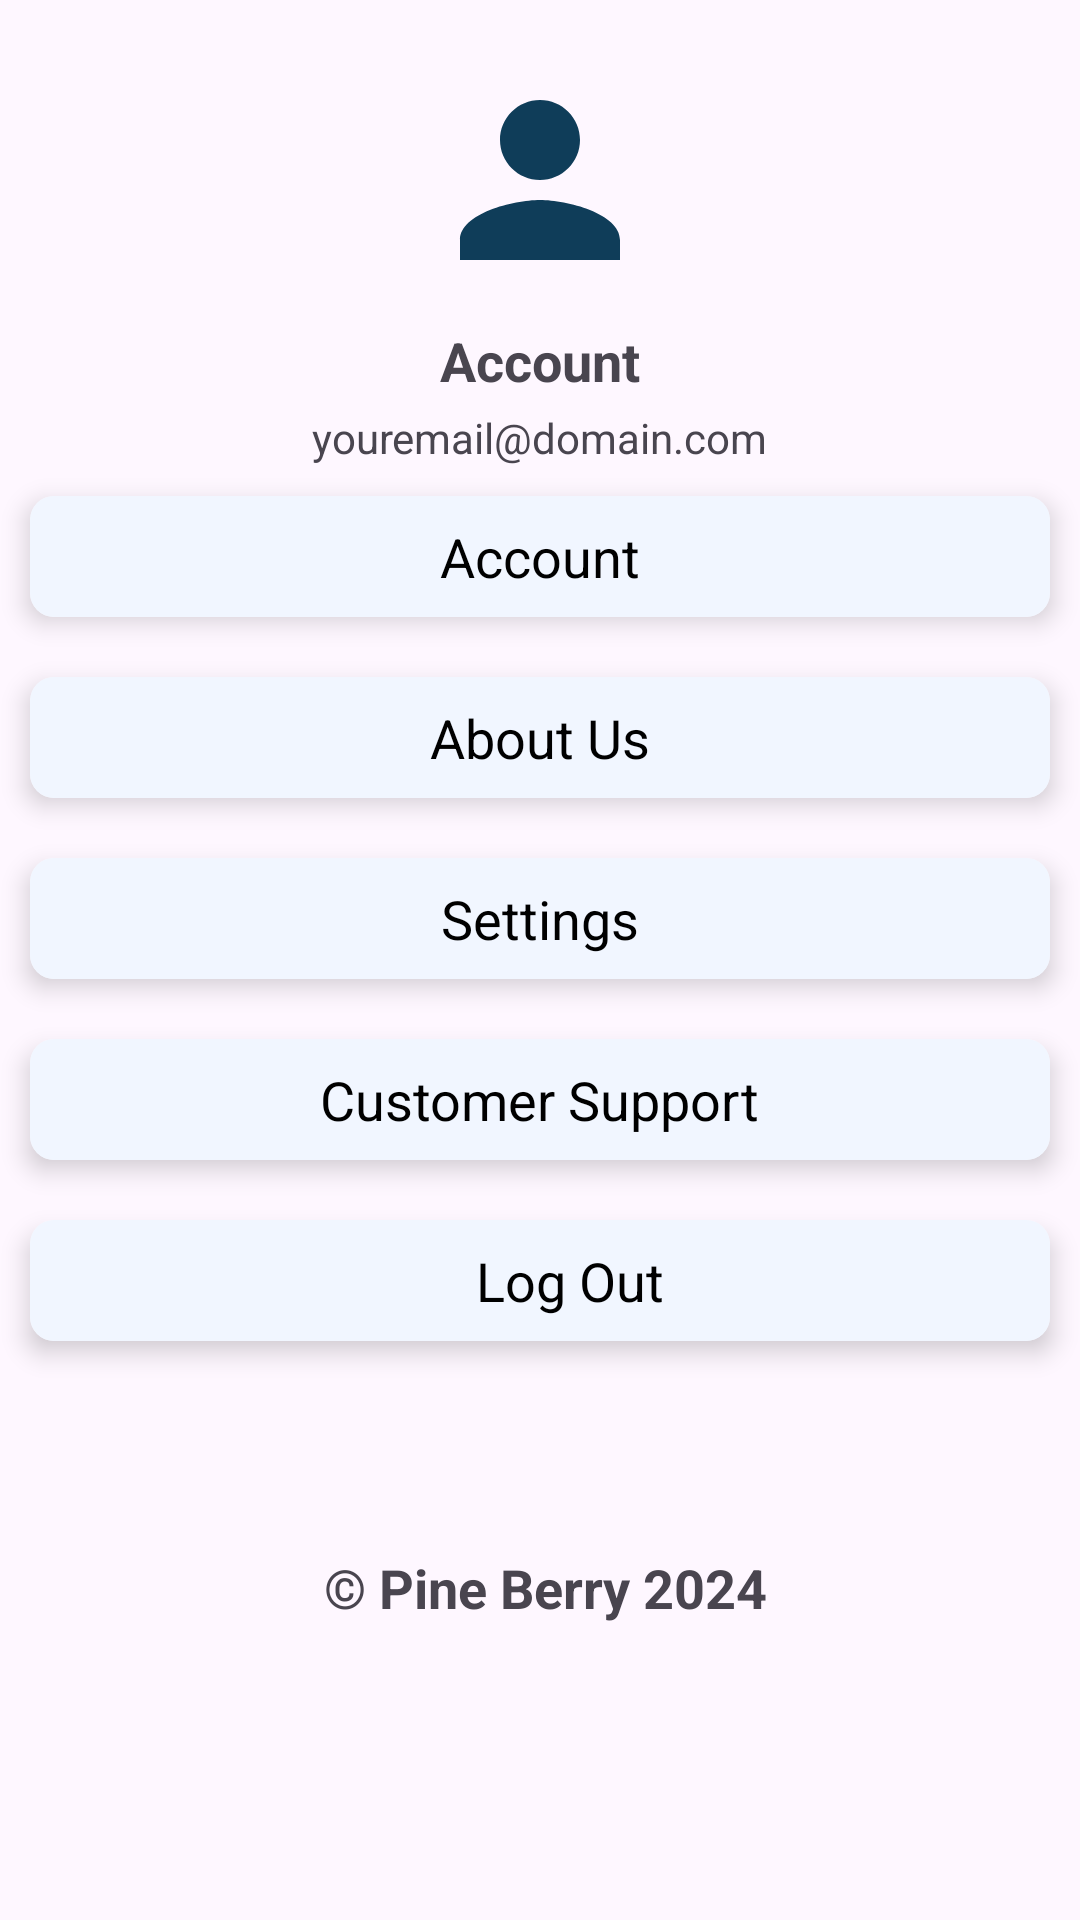

Named icons in this screenshot (1080 × 1920) and their centers, (x=x, y=y):
person: (x=540, y=180)
